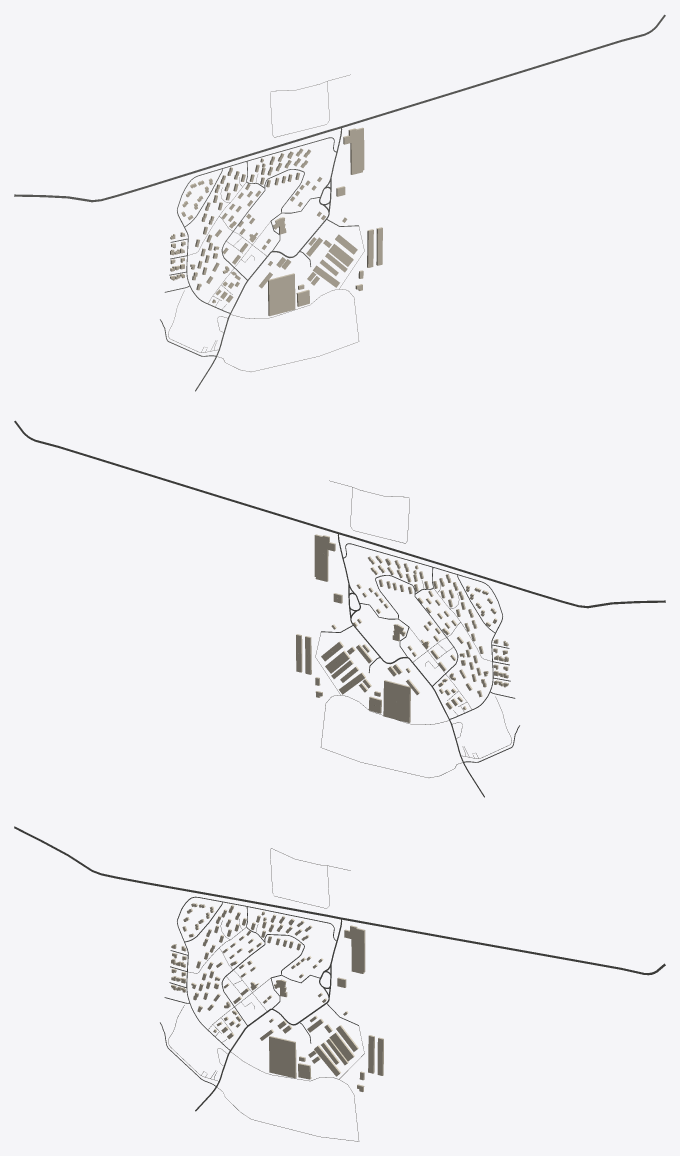
File: historic-palestine-13_30_3547_3249.glb
The picture shows the model from 3 angles, top to bottom: view 1: azimuth 30°, elevation 25°; view 2: azimuth 150°, elevation 25°; view 3: azimuth 330°, elevation 25°; orthographic projection.
Parts seen in each view (by area): view 1: Road 6667, Building_.006, Building_.014; view 2: Road 6667, Building_.006, Building_.014; view 3: Road 6667, Building_.006, Building_.014, Road .019.
Part boxes in pixels (x1=…): Road 6667: x1=14, y1=14, x2=665, y2=202; Building_.006: x1=268, y1=273, x2=295, y2=316; Building_.014: x1=343, y1=127, x2=364, y2=174; Road 6667: x1=14, y1=420, x2=665, y2=608; Building_.006: x1=383, y1=680, x2=410, y2=722; Building_.014: x1=314, y1=534, x2=335, y2=581; Road 6667: x1=14, y1=826, x2=665, y2=975; Building_.006: x1=269, y1=1036, x2=296, y2=1078; Building_.014: x1=344, y1=925, x2=365, y2=973; Road .019: x1=177, y1=896, x2=336, y2=1050.
Bounding box in the file's own units: 2549 × 1054 × 8.7.
